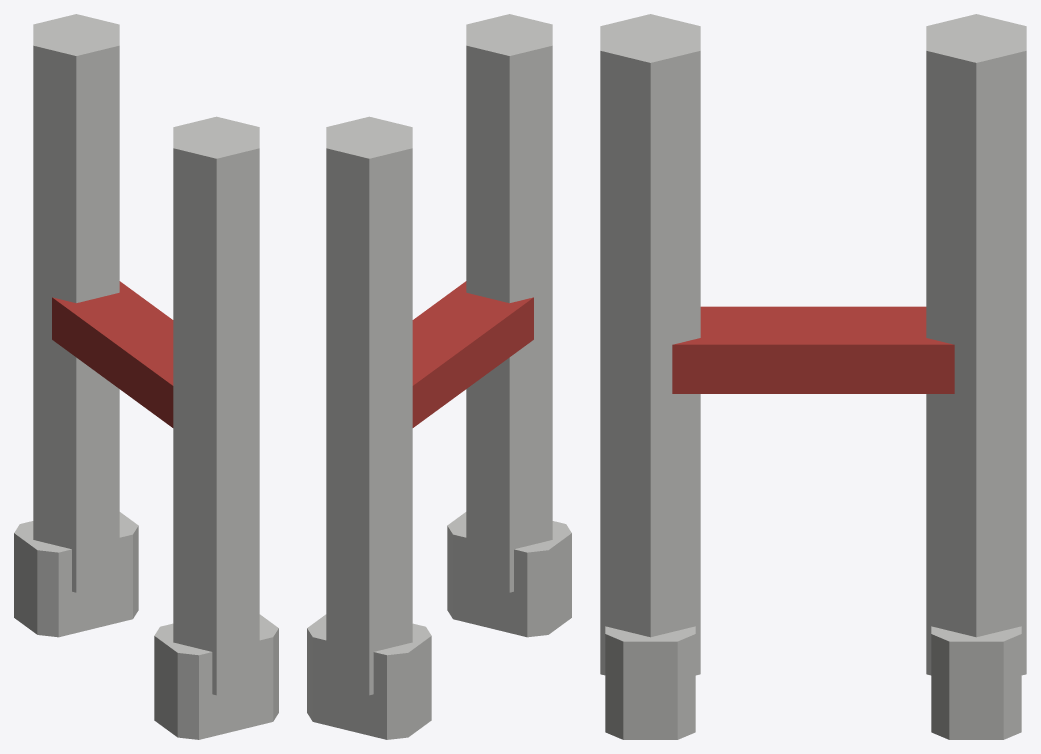
The model's file is scrambler_classic_brace_lower_lod2.glb.
The picture shows the model from 3 angles, left to right: view 1: azimuth 30°, elevation 25°; view 2: azimuth 150°, elevation 25°; view 3: azimuth 270°, elevation 25°; orthographic projection. The views are drawn at different scales.
Parts seen in each view (by area): view 1: scrambler_classic_brace_lower_lod2; view 2: scrambler_classic_brace_lower_lod2; view 3: scrambler_classic_brace_lower_lod2.
Part boxes in pixels (bbox=[...]): scrambler_classic_brace_lower_lod2: bbox=[14, 14, 278, 739]; scrambler_classic_brace_lower_lod2: bbox=[307, 14, 571, 739]; scrambler_classic_brace_lower_lod2: bbox=[600, 14, 1026, 739].
Size of the model in its own units: 0.075 by 0.41 by 0.2354.
